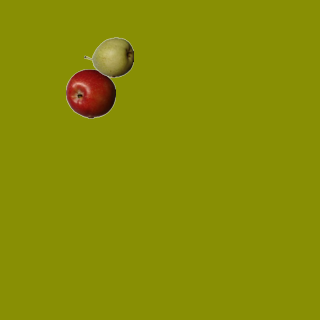Apple Braeburn: (65, 68, 115, 118)
Pear: (83, 32, 133, 82)
